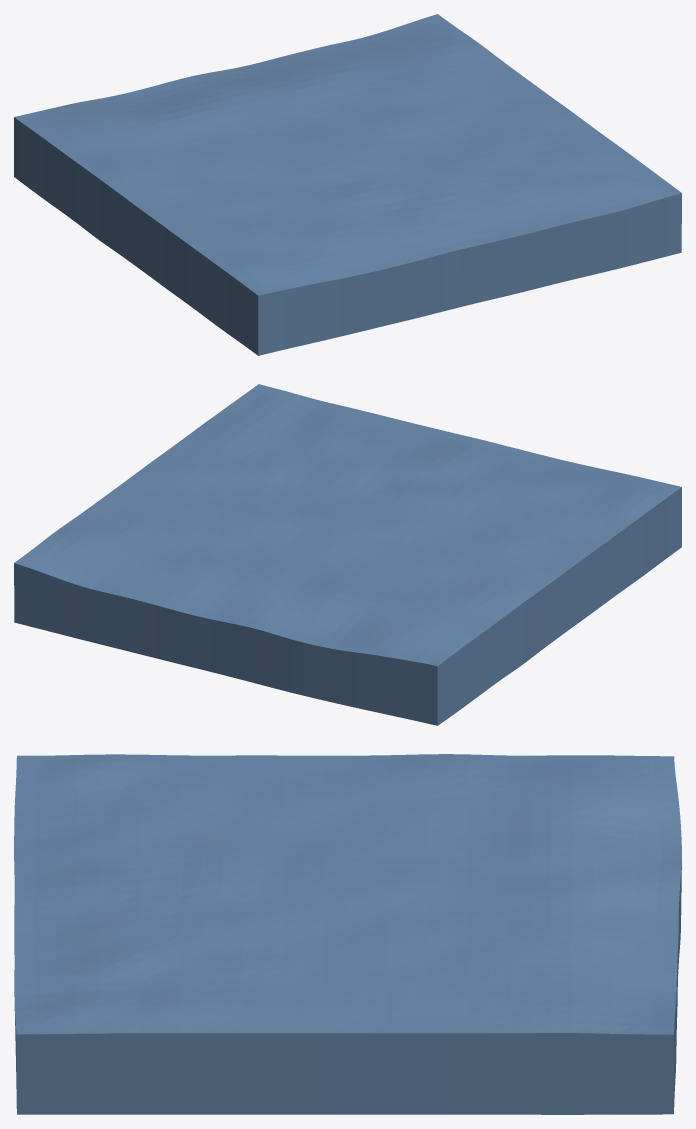
File: Ground.fbx
The picture shows the model from 3 angles, top to bottom: view 1: azimuth 30°, elevation 25°; view 2: azimuth 150°, elevation 25°; view 3: azimuth 270°, elevation 25°; orthographic projection. The views are drawn at different scales.
Parts seen in each view (by area): view 1: Ground_1; view 2: Ground_1; view 3: Ground_1.
Part boxes in pixels (x1,y1,x2,y2): Ground_1: (14, 14, 681, 355); Ground_1: (14, 384, 681, 725); Ground_1: (14, 754, 681, 1114).
Bounding box in the file's own units: 10.03 × 1.45 × 10.17.
1 material, 1 textured.
